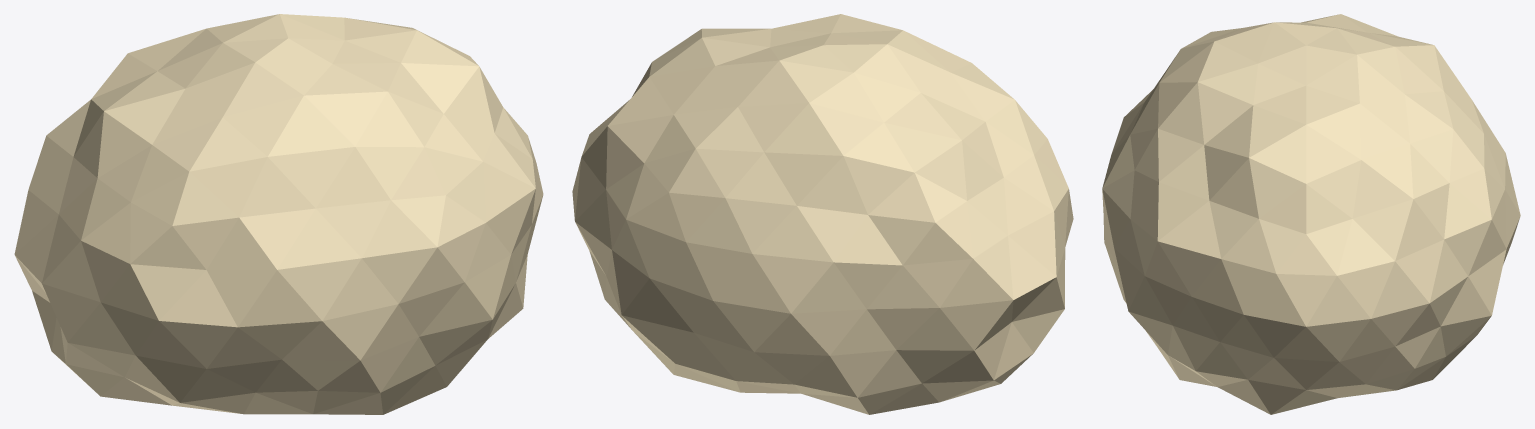
The model's file is SM_Rock.fbx.
3 views of the same model, side by side, from view 1: azimuth 30°, elevation 25°; view 2: azimuth 150°, elevation 25°; view 3: azimuth 270°, elevation 25° (orthographic). The views are drawn at different scales.
Parts seen in each view (by area): view 1: RockMesh; view 2: RockMesh; view 3: RockMesh.
Part boxes in pixels (x1=…): RockMesh: x1=14, y1=14, x2=543, y2=414; RockMesh: x1=572, y1=14, x2=1073, y2=414; RockMesh: x1=1102, y1=14, x2=1520, y2=414.
Bounding box in the file's own units: 0.6898 × 0.4277 × 0.55.
